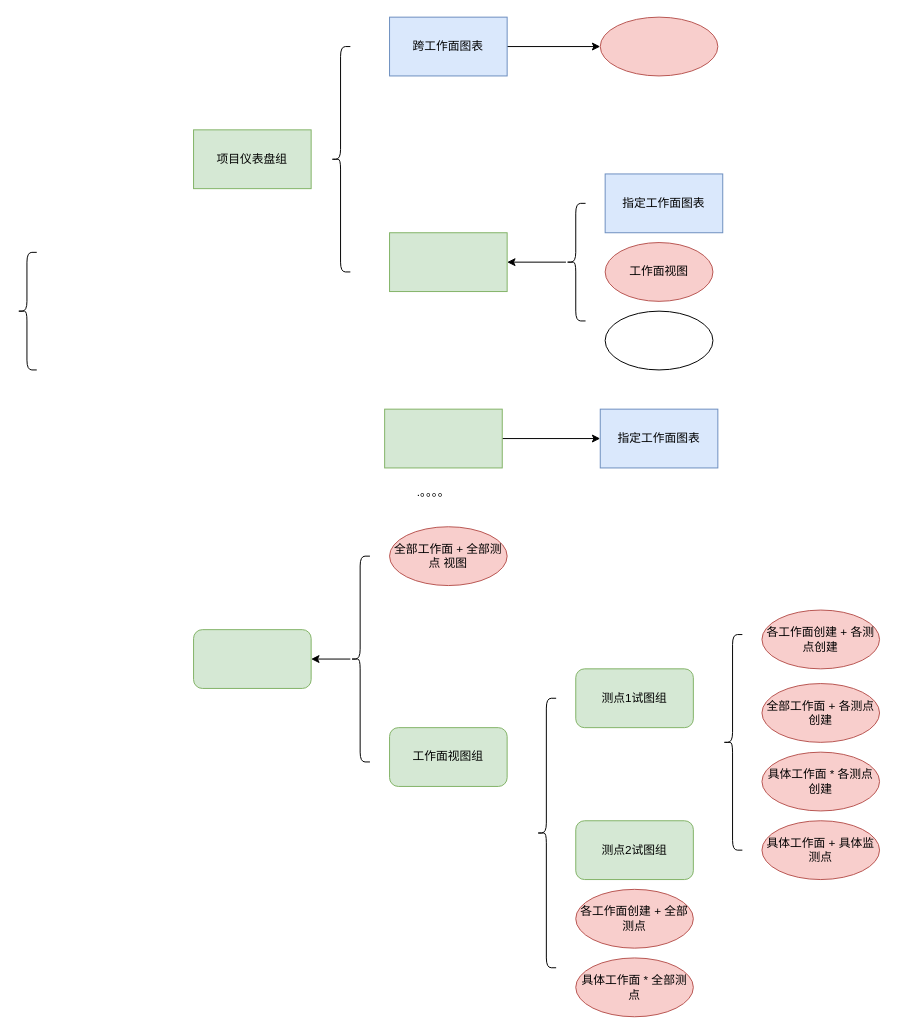
The diagram is 897 pixels wide and 1034 high, and some of its shapes have lost their labels. The shapes that lost their labels are listed below. From the top down, each one's box as (x1, y1, x2, y2) in pixels, then its label:
(599, 16, 718, 76): 所有视图
(389, 232, 507, 292): 工作面仪表盘组1
(384, 408, 502, 468): 工作面组2
(193, 629, 311, 688): 项目视图组
